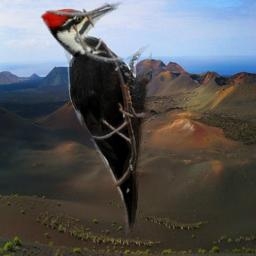Woodpecker: (40, 1, 152, 242)
